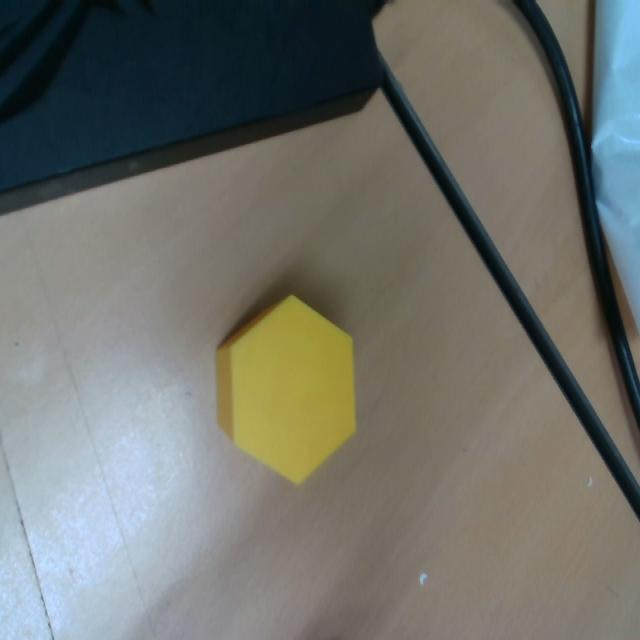hexagon: (216, 295, 355, 483)
